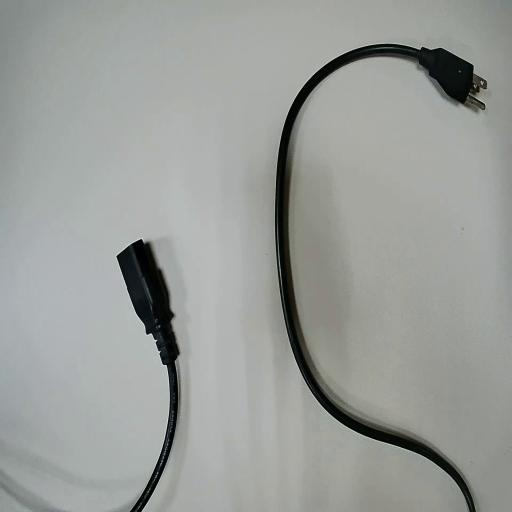wire: (276, 45, 480, 511), (118, 241, 178, 511)
